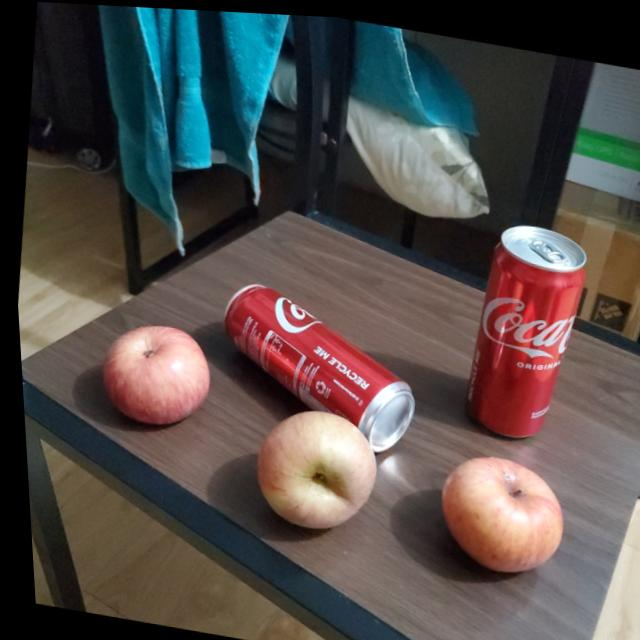apple: (425, 445, 567, 579), (241, 401, 378, 537), (90, 313, 214, 431)
coke: (204, 277, 424, 457), (445, 209, 593, 440)
